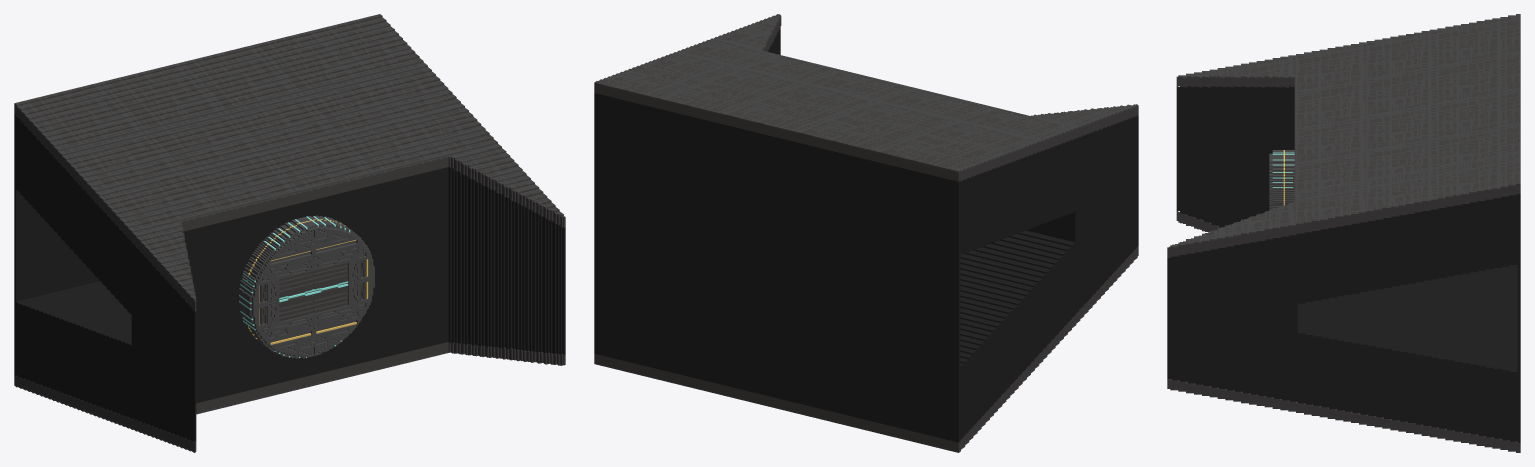
File: Space ship-21.obj
3 views of the same model, side by side, from view 1: azimuth 30°, elevation 25°; view 2: azimuth 150°, elevation 25°; view 3: azimuth 270°, elevation 25° (orthographic). The views are drawn at different scales.
Size of the model in its own units: 25.6 by 18.9 by 22.5.
Materials: 1 (1 with a texture image).
